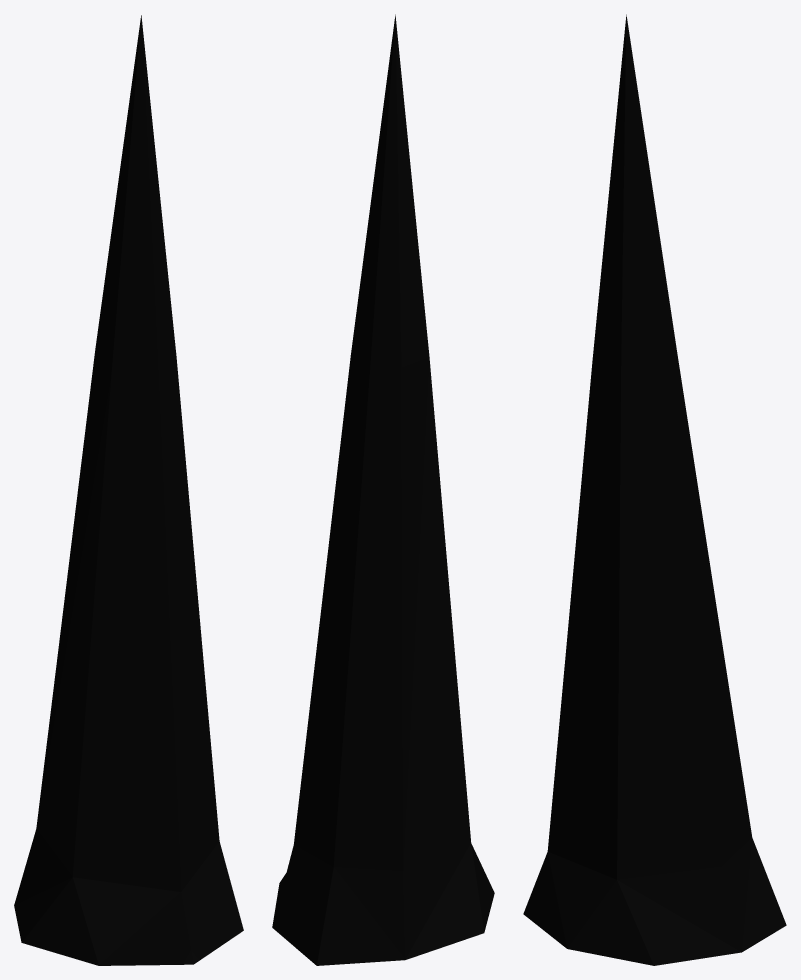
File: 0040_HT_FX_DunJiaJian_jianci.glb
The picture shows the model from 3 angles, left to right: view 1: azimuth 30°, elevation 25°; view 2: azimuth 150°, elevation 25°; view 3: azimuth 270°, elevation 25°; orthographic projection. The views are drawn at different scales.
Bounding box in the file's own units: 0.5274 × 2.2 × 0.5764.
1 material, 1 textured.
